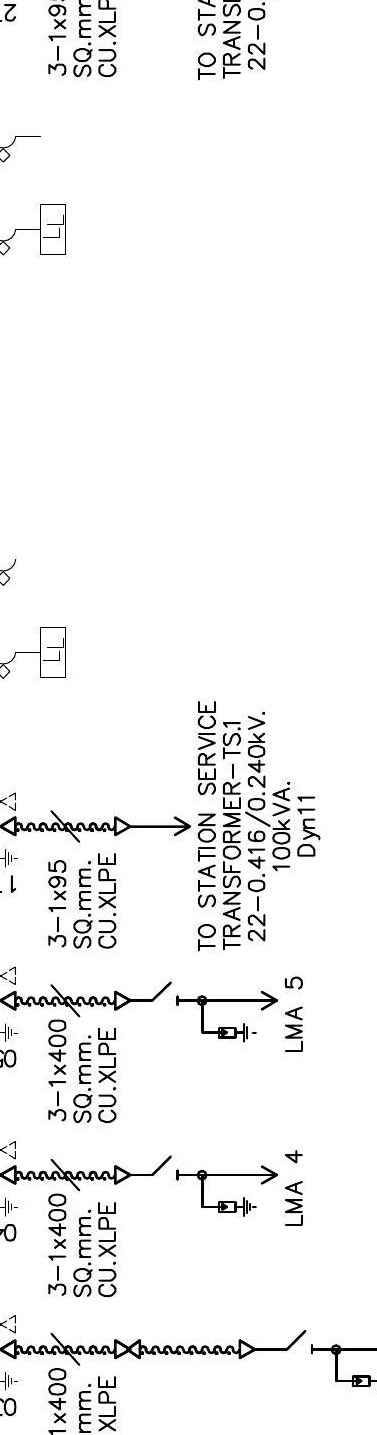22_ds_la_out: (151, 1155, 279, 1218), (151, 981, 279, 1044)
LL: (38, 202, 68, 257), (39, 625, 68, 679)
terminator_single: (237, 1338, 256, 1360), (113, 815, 131, 837), (113, 990, 131, 1012), (113, 1164, 131, 1186)
terminator_splicing_kits: (113, 1339, 141, 1360)
